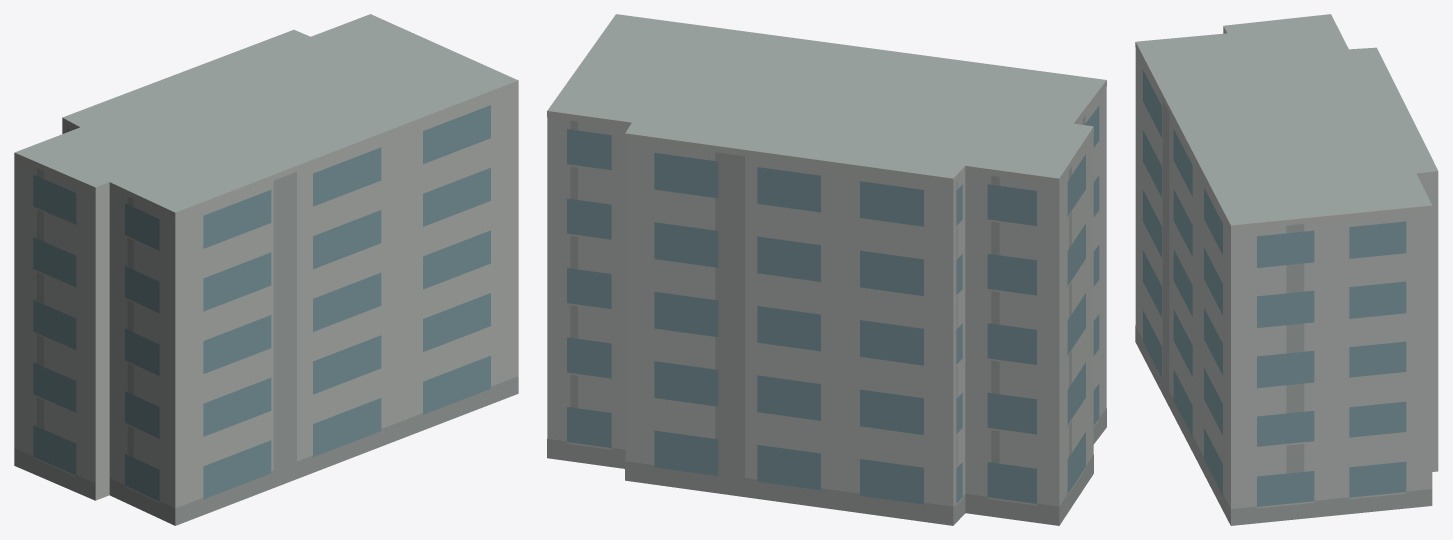
The model's file is survey-upis-32564572.glb.
The picture shows the model from 3 angles, left to right: view 1: azimuth 30°, elevation 25°; view 2: azimuth 150°, elevation 25°; view 3: azimuth 270°, elevation 25°; orthographic projection. The views are drawn at different scales.
Parts seen in each view (by area): view 1: survey-upis-32564572.tmp; view 2: survey-upis-32564572.tmp; view 3: survey-upis-32564572.tmp.
Part boxes in pixels (x1,y1,x2,y2): survey-upis-32564572.tmp: (14, 14, 518, 525); survey-upis-32564572.tmp: (547, 14, 1106, 525); survey-upis-32564572.tmp: (1135, 14, 1438, 525).
Bounding box in the file's own units: 19.79 × 13.1 × 11.98.
